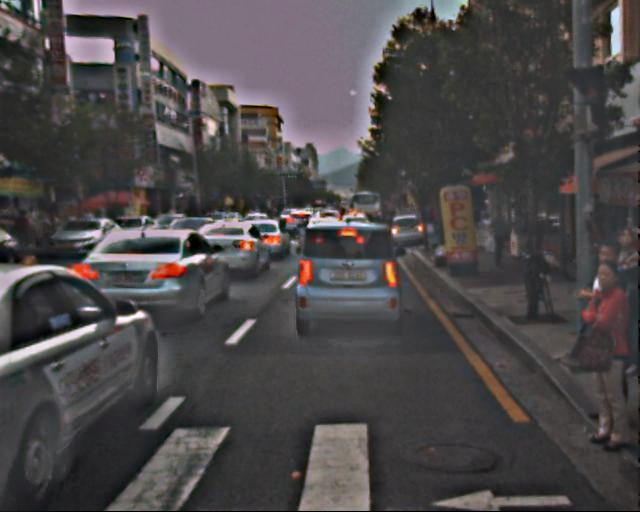person: (570, 264, 640, 453), (576, 241, 640, 415), (597, 226, 640, 379), (485, 206, 512, 272)
